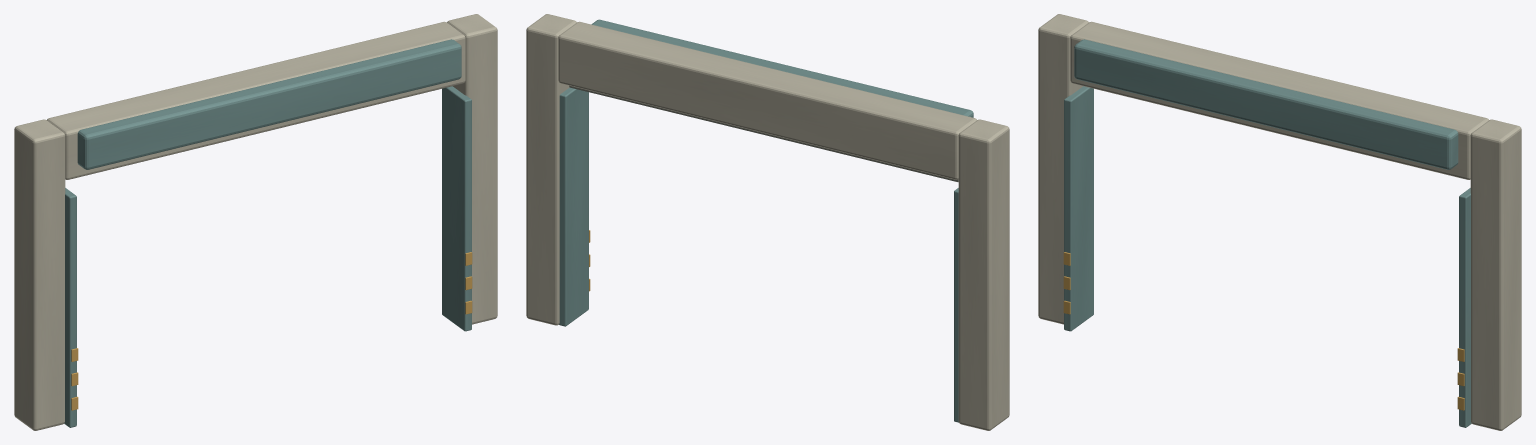
The model's file is Doorway_Wide_8m.glb.
3 renders of one model, left to right at view 1: azimuth 30°, elevation 25°; view 2: azimuth 150°, elevation 25°; view 3: azimuth 330°, elevation 25°, orthographic.
Visible parts, largest first — view 1: Doorway_Wide_8m; view 2: Doorway_Wide_8m; view 3: Doorway_Wide_8m.
Boxes of the visible parts, bbox=[...] form: Doorway_Wide_8m: bbox=[14, 14, 497, 430]; Doorway_Wide_8m: bbox=[526, 14, 1009, 430]; Doorway_Wide_8m: bbox=[1038, 14, 1521, 430].
Bounding box in the file's own units: 8 × 4.8 × 0.86.
4 materials, 2 textured.
